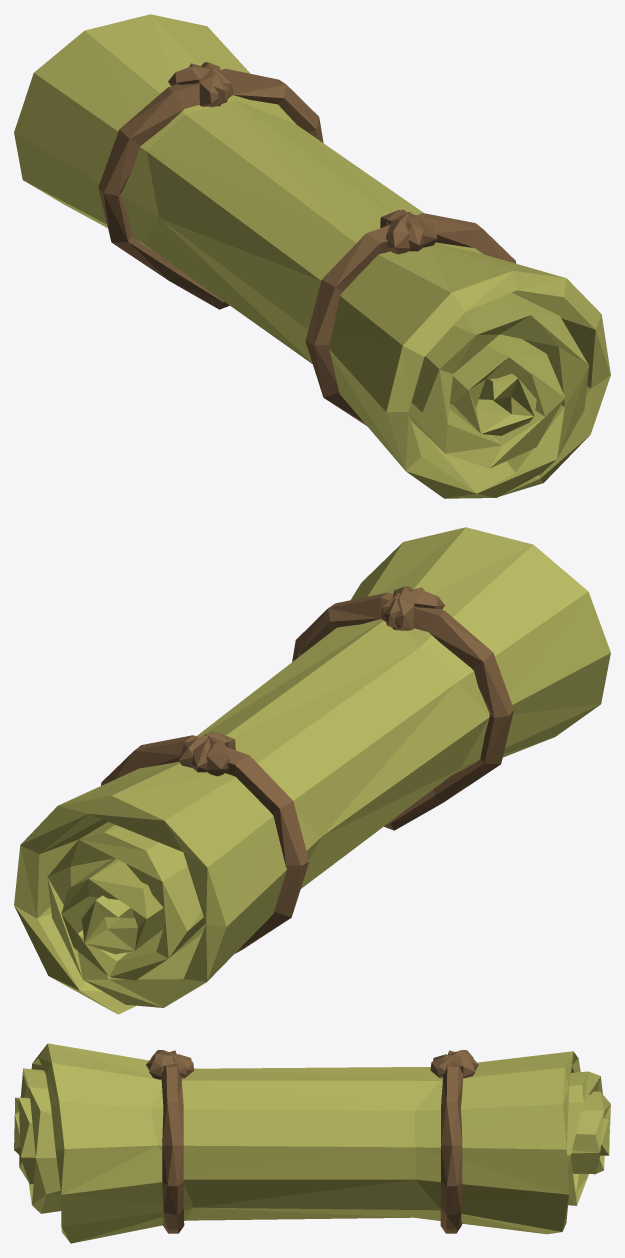
Rendered from SFM_FS_Fabric_002.fbx.
The picture shows the model from 3 angles, top to bottom: view 1: azimuth 30°, elevation 25°; view 2: azimuth 150°, elevation 25°; view 3: azimuth 270°, elevation 25°; orthographic projection. The views are drawn at different scales.
Parts seen in each view (by area): view 1: SFM_FS_Fabric_002; view 2: SFM_FS_Fabric_002; view 3: SFM_FS_Fabric_002.
Boxes of the visible parts, x1,y1,x2,y2 form: SFM_FS_Fabric_002: (14, 14, 610, 498); SFM_FS_Fabric_002: (14, 527, 610, 1014); SFM_FS_Fabric_002: (14, 1043, 610, 1243).
Size of the model in its own units: 34.26 by 33.15 by 103.
